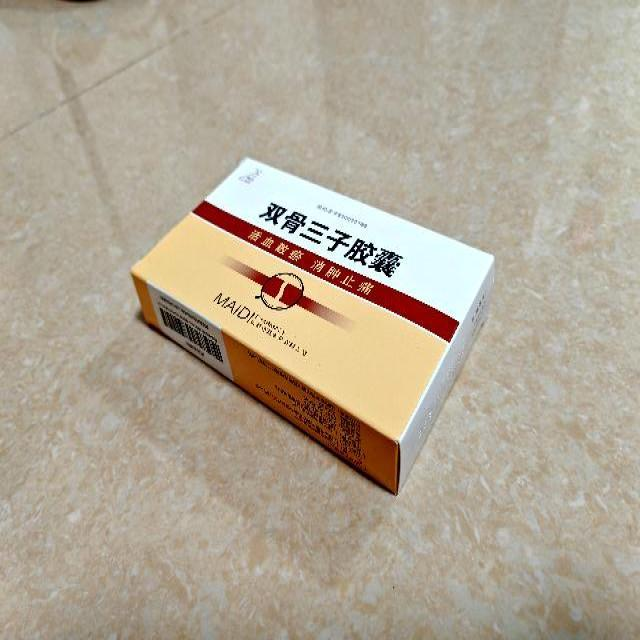box: (130, 158, 493, 498)
